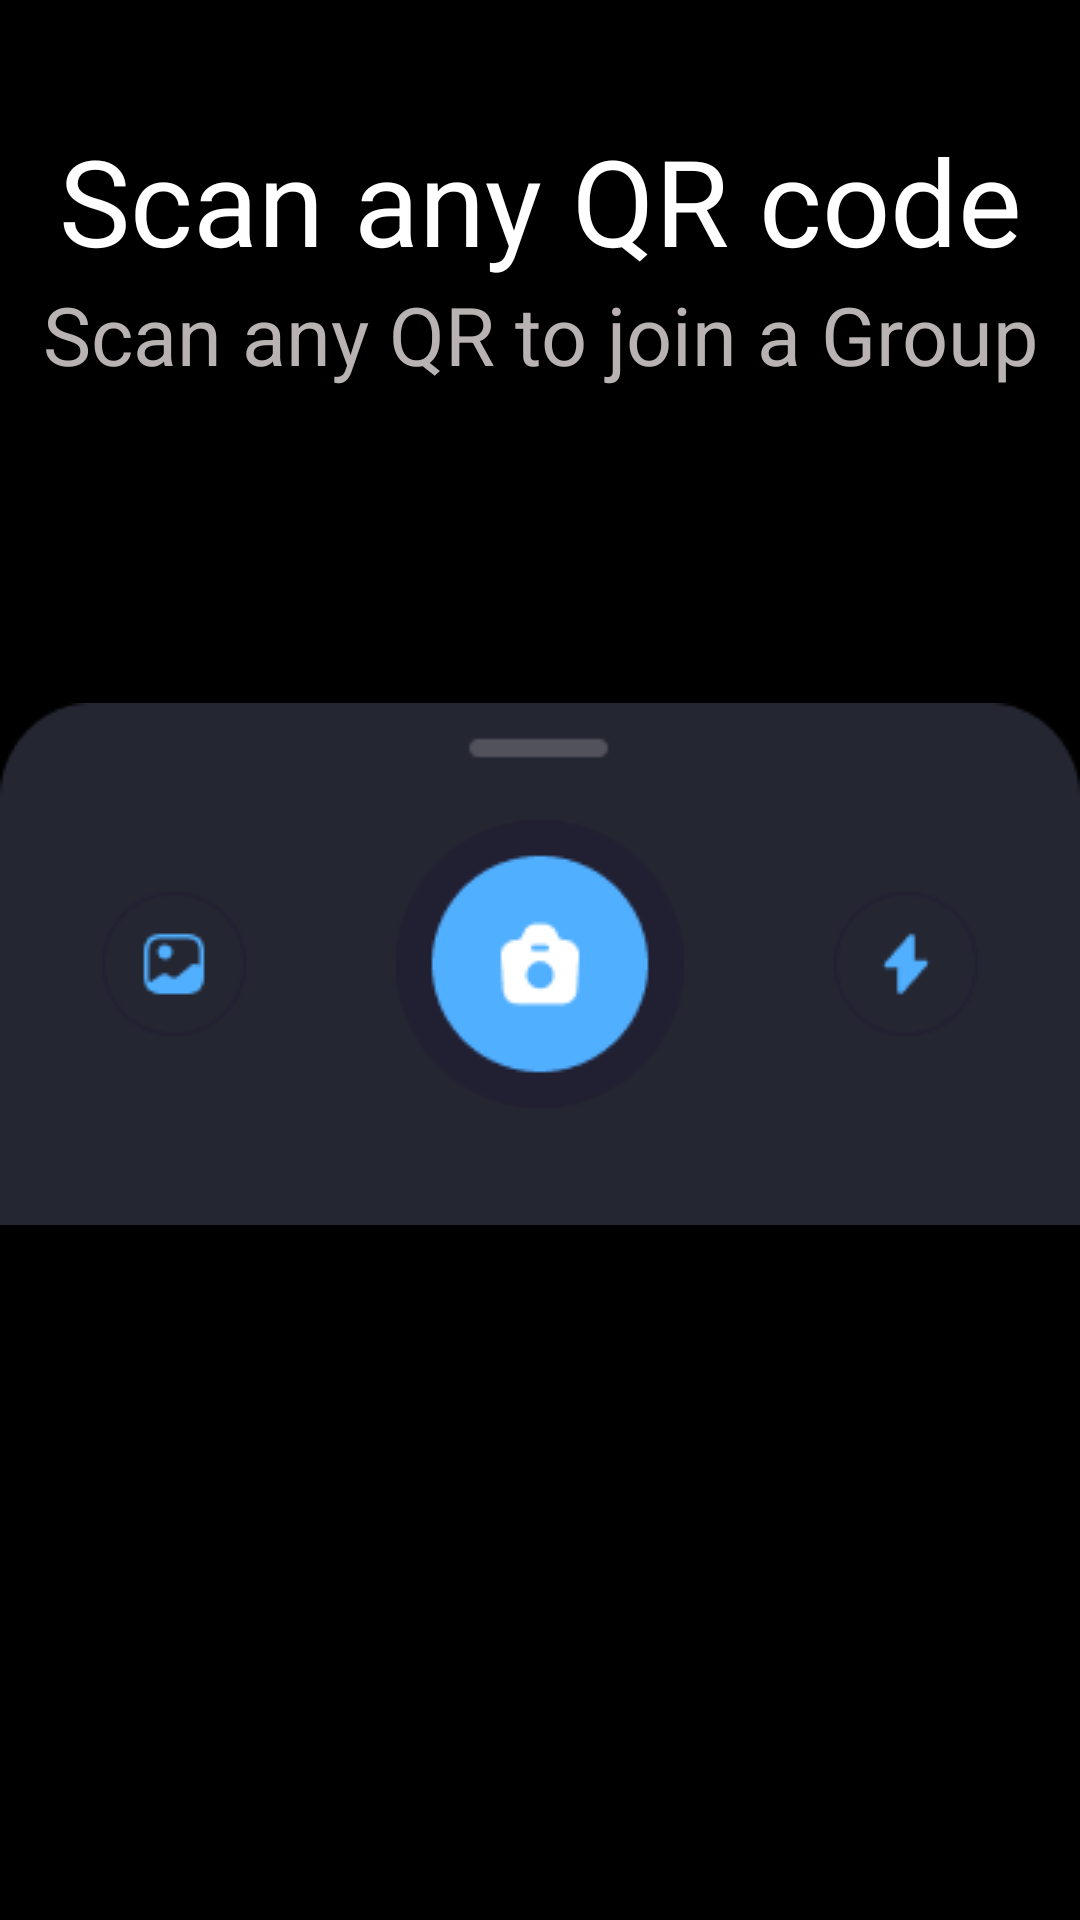

Icons on this 1080 x 1920 Android screen, each with the point to tap as point (x, y):
camera: point (540, 964)
flash: point (906, 964)
gallery: point (174, 964)
